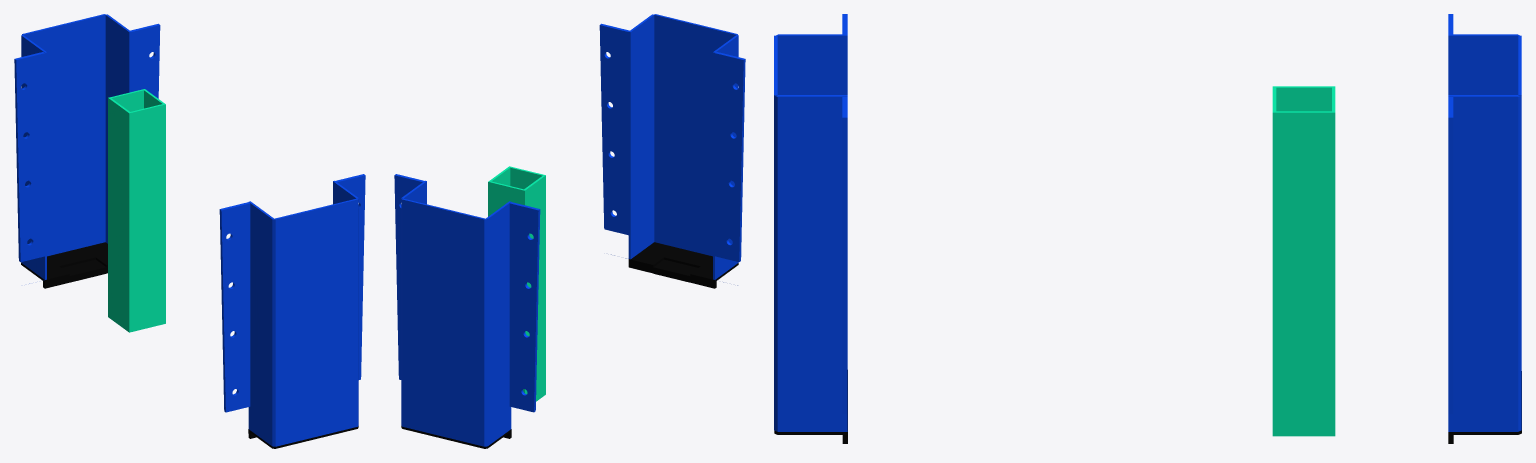
Rendered from COLO0-0.glb.
3 views of the same model, side by side, from view 1: azimuth 30°, elevation 25°; view 2: azimuth 150°, elevation 25°; view 3: azimuth 270°, elevation 25° (orthographic). The views are drawn at different scales.
Parts seen in each view (by area): view 1: impotanat, inner, common; view 2: impotanat, inner, common; view 3: impotanat, inner.
Boxes of the visible parts, x1=… form: impotanat: x1=14, y1=14, x2=365, y2=446; inner: x1=108, y1=89, x2=165, y2=332; common: x1=21, y1=242, x2=358, y2=448; impotanat: x1=394, y1=14, x2=745, y2=446; inner: x1=488, y1=166, x2=545, y2=401; common: x1=401, y1=242, x2=738, y2=448; impotanat: x1=774, y1=14, x2=1521, y2=431; inner: x1=1272, y1=86, x2=1335, y2=436.
Size of the model in its own units: 0.1393 by 0.2238 by 0.4241.
